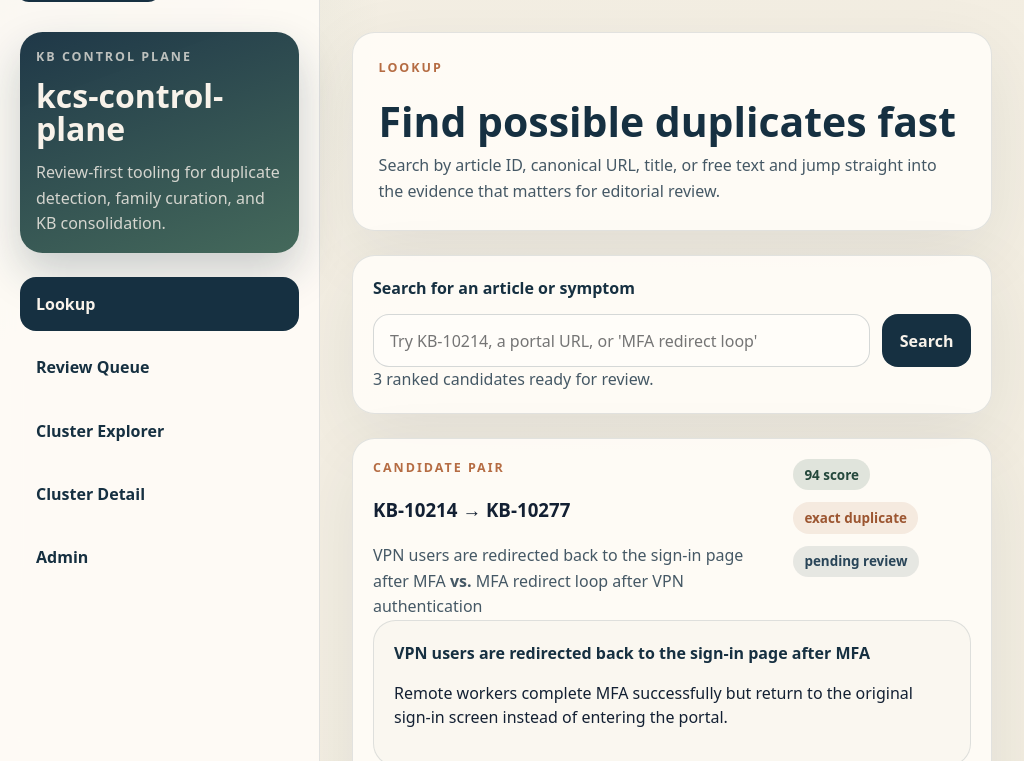
Scenario: workflow-first frontend › reconnects to an already running pipeline when the admin page opens
Click the button "Admin".
click(62, 557)  # box [20,530,299,584]
(page scrolled)
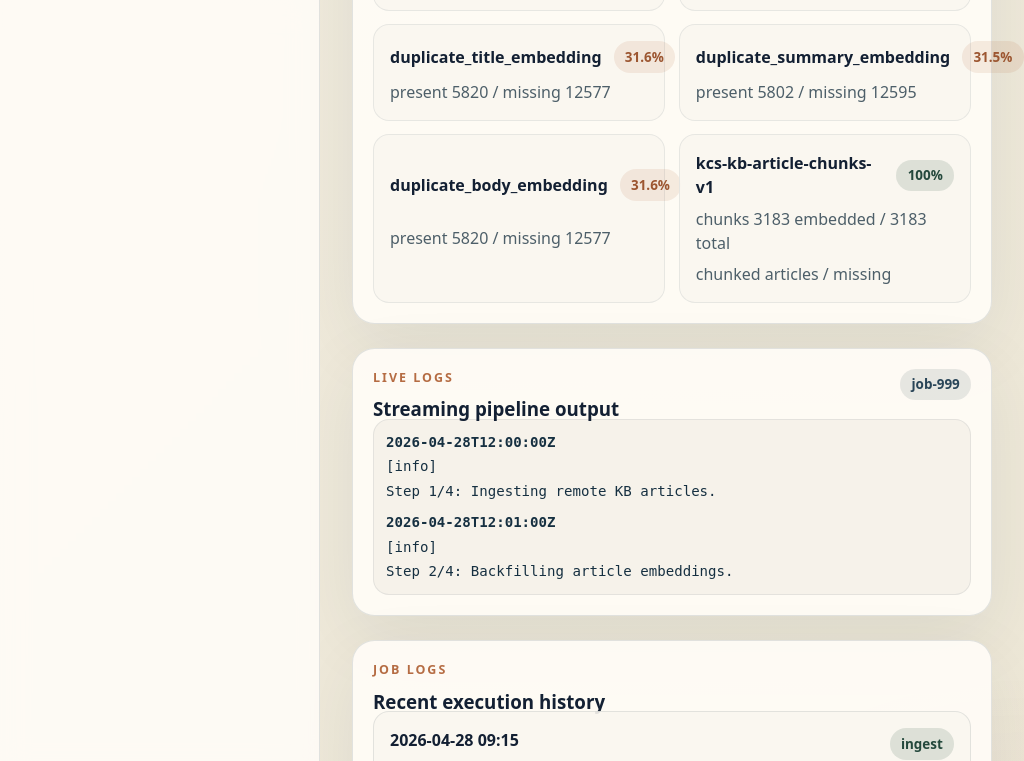
Expected: the text "Step 1/4: Ingesting remote KB articles." is shown, [386,483,717,499]
Expected: the text "Step 2/4: Backfilling article embeddings." is shown, [386,563,734,579]
Expected: the text "job-999" is shown, [900,369,971,400]
